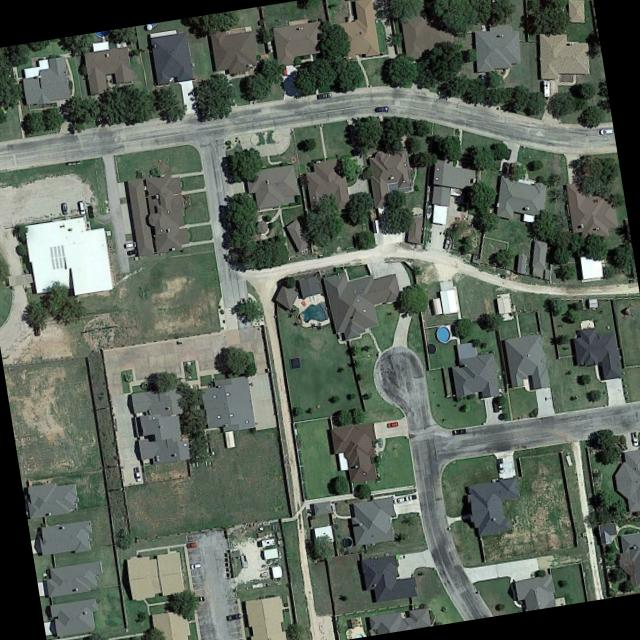ship: (425, 203, 433, 220)
small-vehicle: (632, 430, 640, 446), (78, 200, 87, 214), (453, 426, 468, 434), (134, 466, 142, 481), (497, 457, 505, 472), (599, 126, 613, 134), (317, 91, 331, 99), (374, 104, 388, 112), (404, 493, 418, 501), (491, 399, 499, 412), (502, 161, 510, 174), (509, 161, 517, 174), (60, 202, 69, 213), (227, 612, 241, 619), (393, 496, 405, 504), (33, 323, 41, 335), (125, 240, 137, 248), (87, 204, 94, 217), (127, 247, 138, 255), (186, 541, 198, 548), (387, 420, 399, 427), (195, 594, 206, 601), (190, 562, 202, 568), (281, 64, 287, 75), (444, 238, 450, 248), (231, 637, 244, 640)
